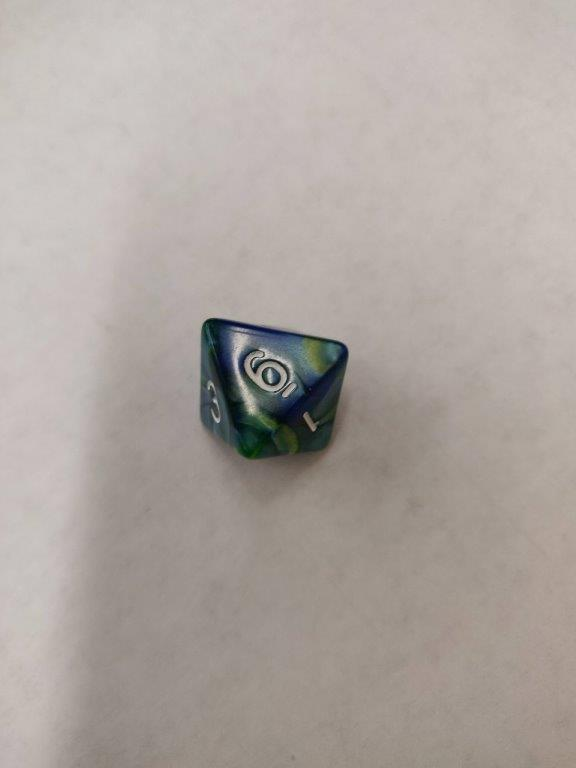d8-6: (197, 316, 346, 463)
